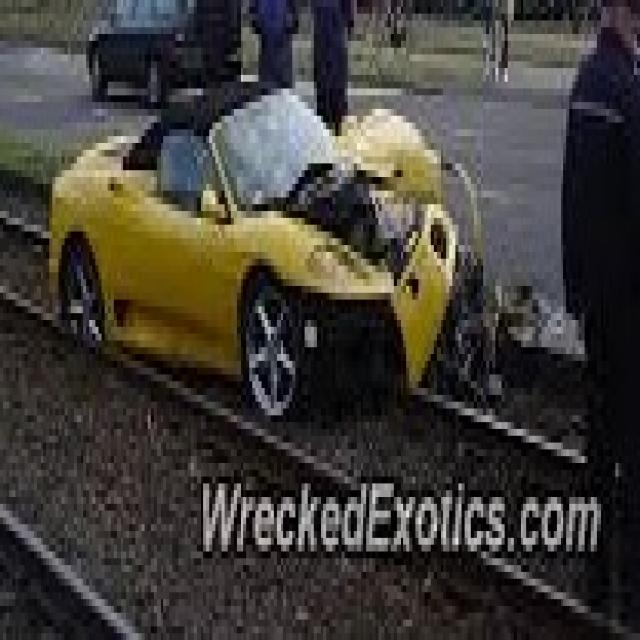severe: (138, 105, 500, 398)
